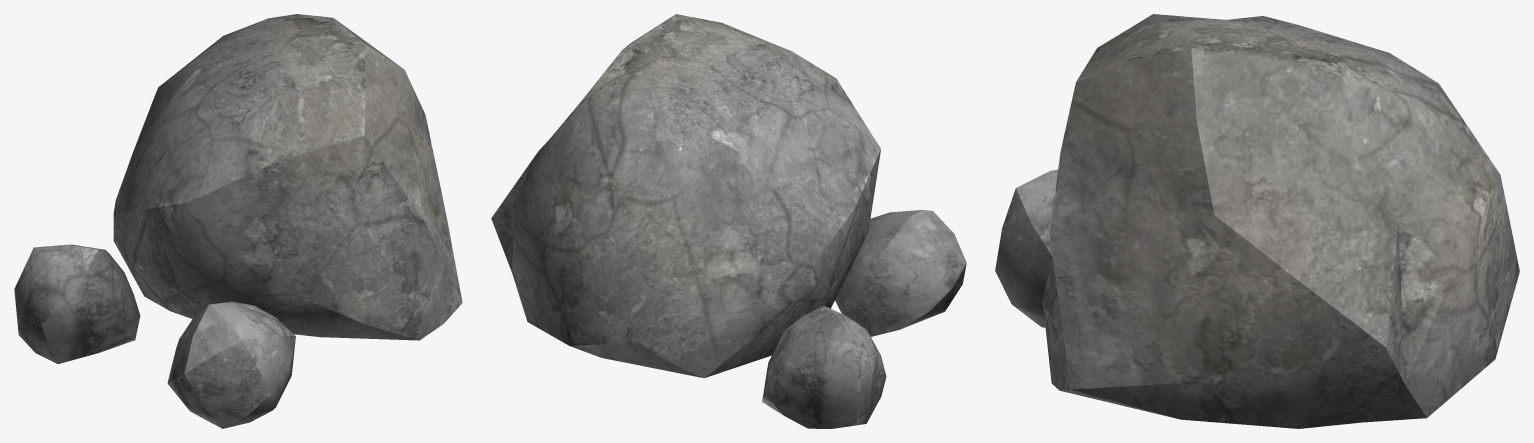
File: boulder.glb
3 renders of one model, left to right at view 1: azimuth 30°, elevation 25°; view 2: azimuth 150°, elevation 25°; view 3: azimuth 270°, elevation 25°, orthographic. The views are drawn at different scales.
Parts seen in each view (by area): view 1: root_mesh; view 2: root_mesh; view 3: root_mesh.
Boxes of the visible parts, x1,y1,x2,y2 form: root_mesh: (14,14,462,428); root_mesh: (491,14,966,428); root_mesh: (995,14,1519,428).
Size of the model in its own units: 0.9197 by 0.6963 by 0.8466.
1 material, 1 textured.
